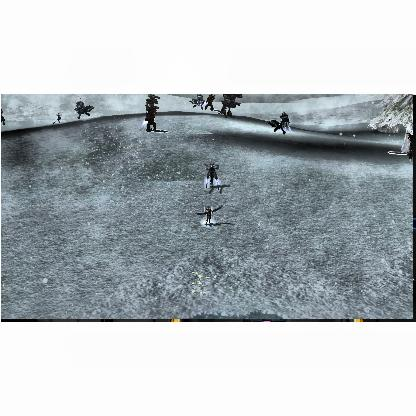caliana: (204, 163, 220, 191)
